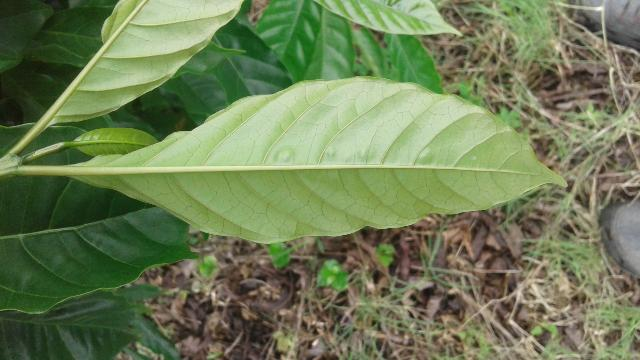healthy: (61, 78, 567, 243)
